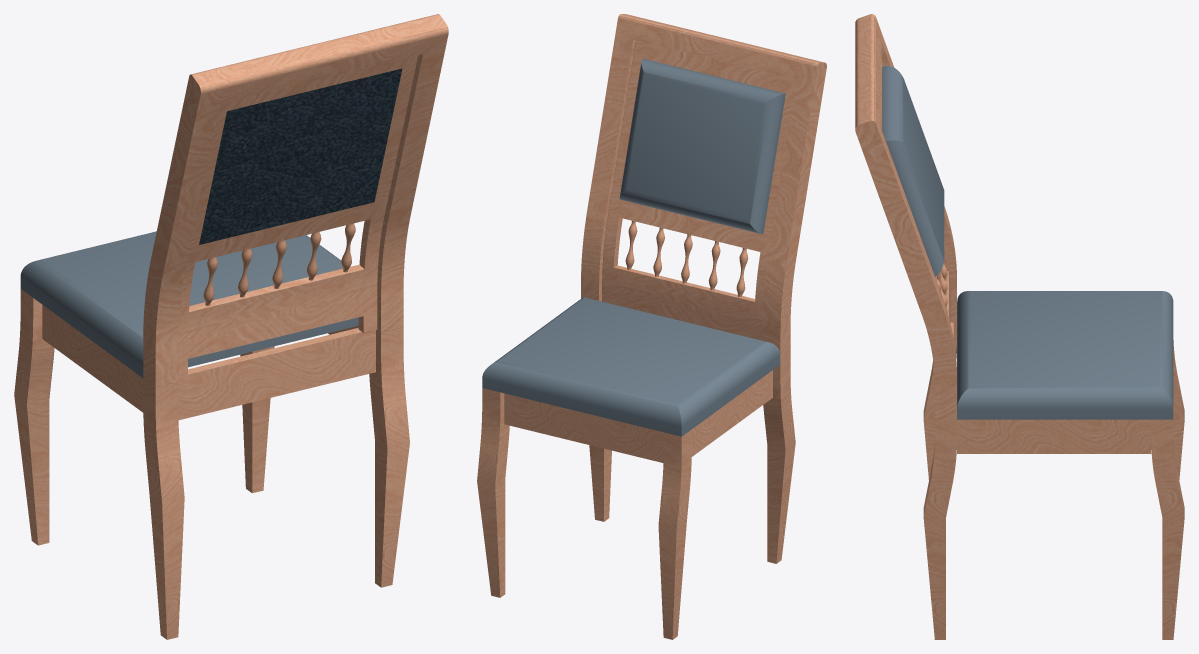
The model's file is chair1.fbx.
The picture shows the model from 3 angles, left to right: view 1: azimuth 30°, elevation 25°; view 2: azimuth 150°, elevation 25°; view 3: azimuth 270°, elevation 25°; orthographic projection. The views are drawn at different scales.
Parts seen in each view (by area): view 1: Componen38.000; view 2: Componen38.000; view 3: Componen38.000.
Boxes of the visible parts, x1,y1,x2,y2 form: Componen38.000: (14, 14, 448, 639); Componen38.000: (477, 14, 826, 639); Componen38.000: (855, 14, 1184, 639).
Size of the model in its own units: 25.09 by 32.73 by 57.46.
